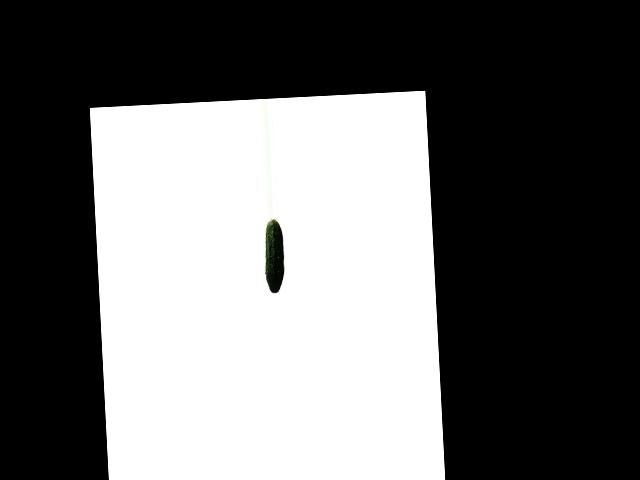cucumber: (263, 218, 285, 293)
